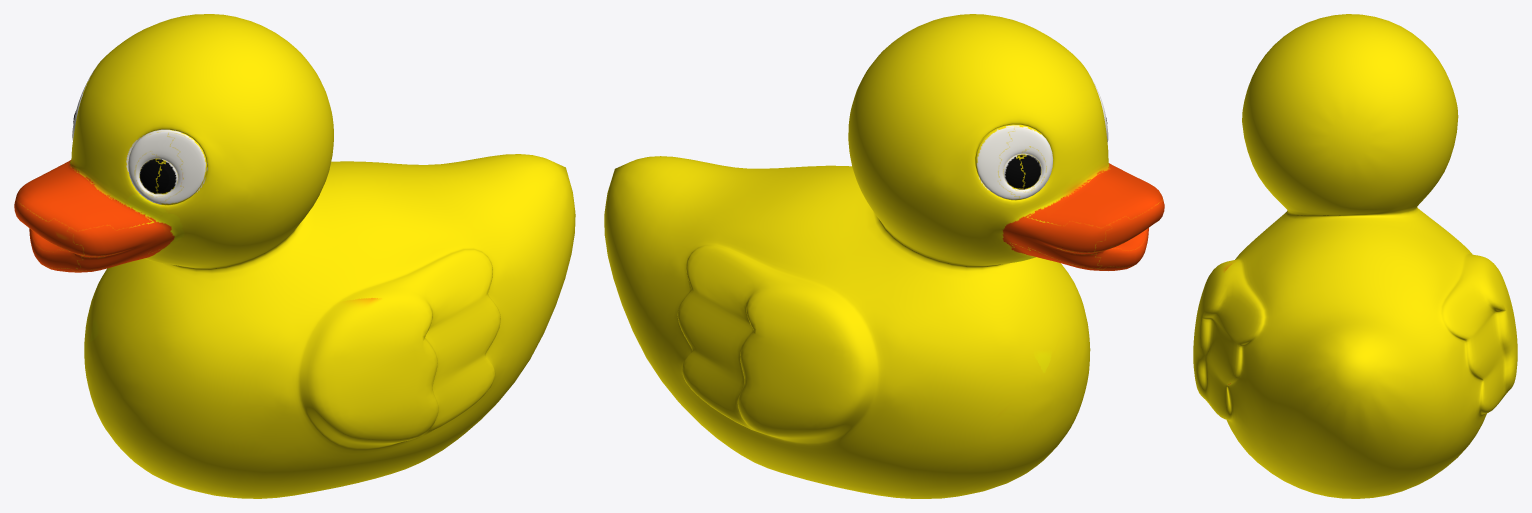
File: rubber_duck2.fbx
3 renders of one model, left to right at view 1: azimuth 30°, elevation 25°; view 2: azimuth 150°, elevation 25°; view 3: azimuth 270°, elevation 25°, orthographic. The views are drawn at different scales.
Parts seen in each view (by area): view 1: rubber_duck; view 2: rubber_duck; view 3: rubber_duck.
Part boxes in pixels (left/top/right/bottom): rubber_duck: left=14, top=14, right=575, bottom=498; rubber_duck: left=604, top=14, right=1164, bottom=498; rubber_duck: left=1193, top=14, right=1517, bottom=498.
Bounding box in the file's own units: 498 × 405 × 301.
Materials: 1 (1 with a texture image).
